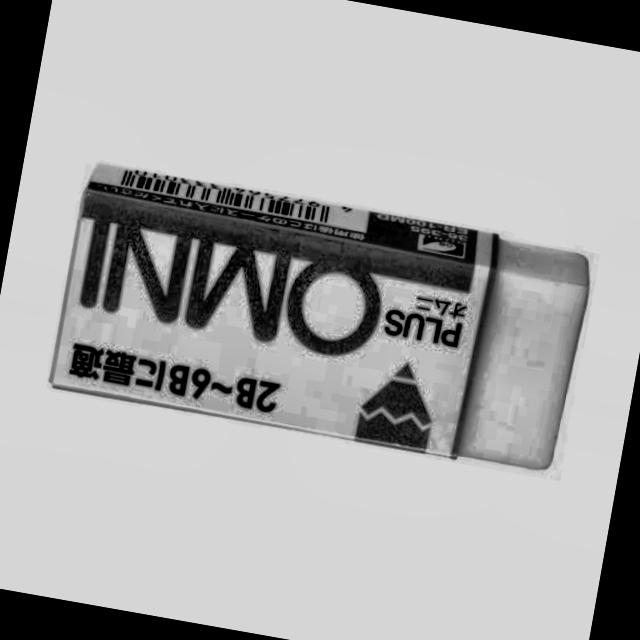eraser: (41, 153, 598, 483)
